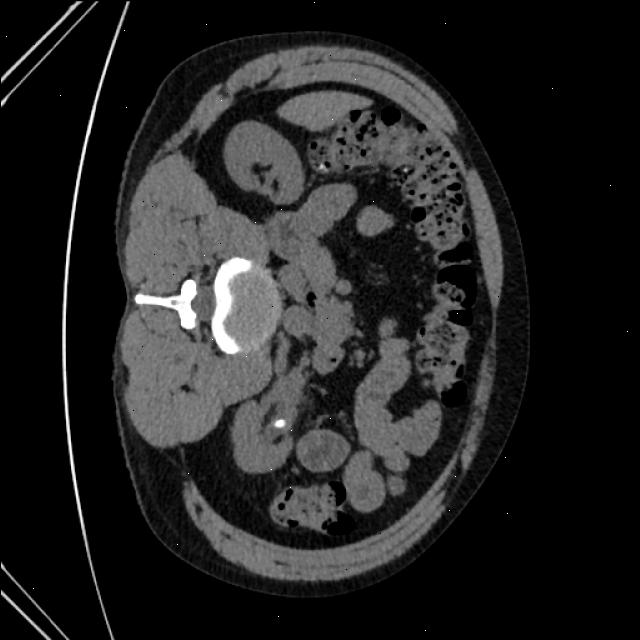kidneystone: (273, 419, 285, 429)
